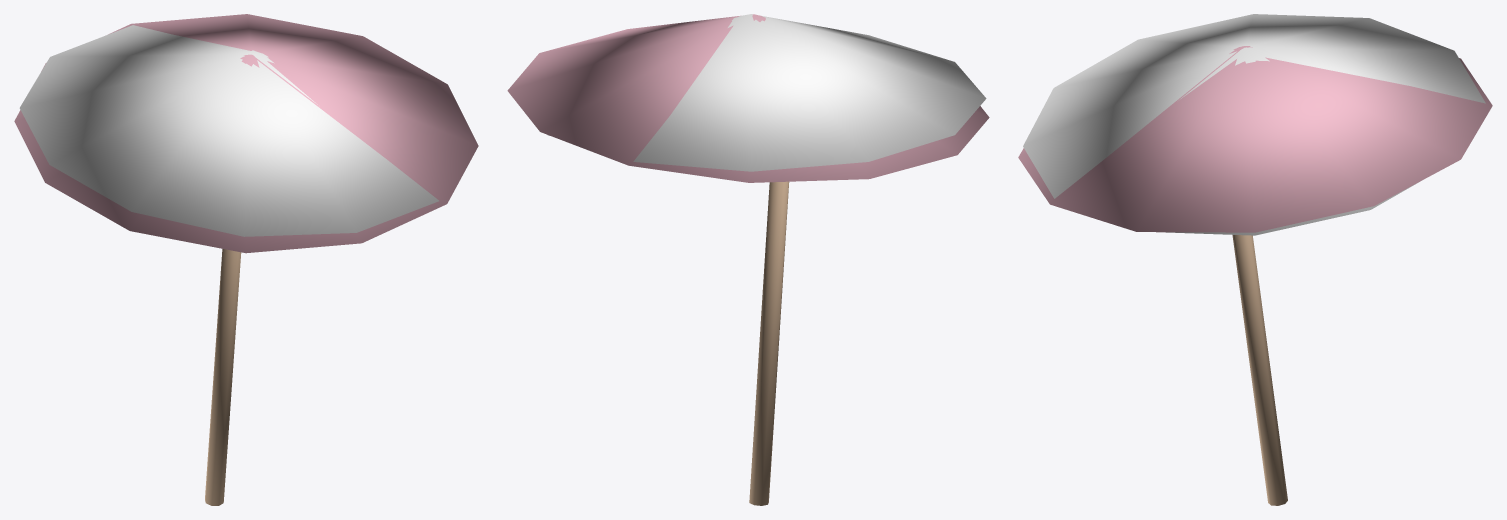
File: beach_umbrella.glb
3 views of the same model, side by side, from view 1: azimuth 30°, elevation 25°; view 2: azimuth 150°, elevation 25°; view 3: azimuth 270°, elevation 25° (orthographic). The views are drawn at different scales.
Visible parts, largest first — view 1: canopy_w, canopy_p, pole; view 2: canopy_w, canopy_p, pole; view 3: canopy_p, canopy_w, pole.
Boxes of the visible parts, <box> form: canopy_w: <box>19,25,438,236</box>; canopy_p: <box>14,14,478,253</box>; pole: <box>205,249,241,505</box>; canopy_w: <box>548,14,986,171</box>; canopy_p: <box>507,14,989,182</box>; pole: <box>749,181,789,505</box>; canopy_p: <box>1018,46,1492,232</box>; canopy_w: <box>1023,14,1485,235</box>; pole: <box>1232,235,1287,505</box>.
Bounding box in the file's own units: 0.76 × 0.8187 × 0.7545.
